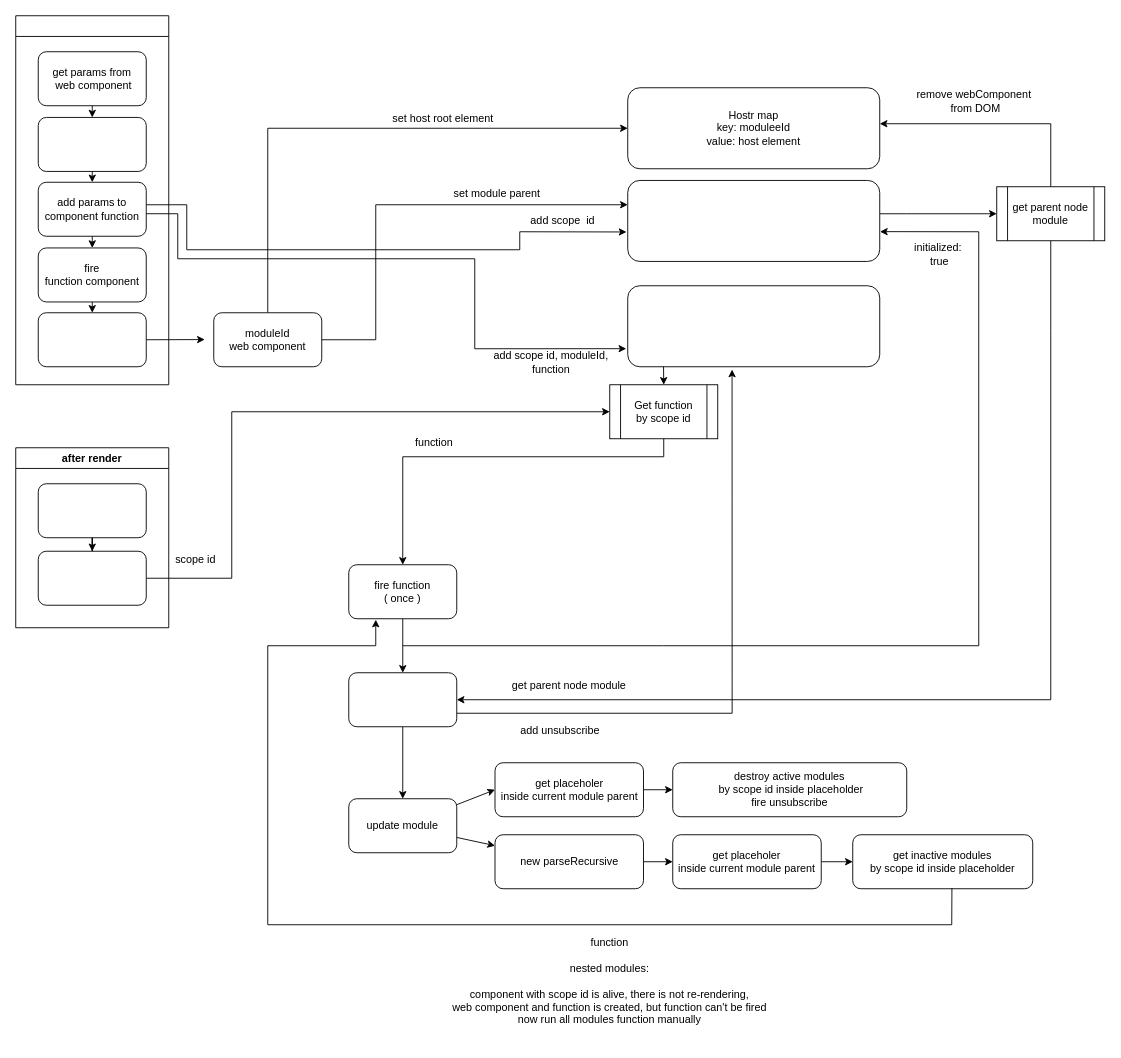
This 1121x1058 diagram has some shape labels left out. The shapes that lost their labels are listed below. From the top down, each one's box as (x1, y1, x2, y2) in pixels, then its label:
(37, 117, 146, 171): add to store
(15, 15, 169, 385): render all component
(627, 180, 880, 261): Placeholder map key: moduleeId value:element, initialized, scopeId
(37, 312, 146, 367): create compoennt DOM
(627, 285, 880, 367): function MAP key: scope id value: [moduleId, function, unsubscribe]
(37, 483, 146, 538): fire all onMount for each component
(37, 550, 146, 605): fire all invalidate/repeat
(348, 672, 457, 727): warch
